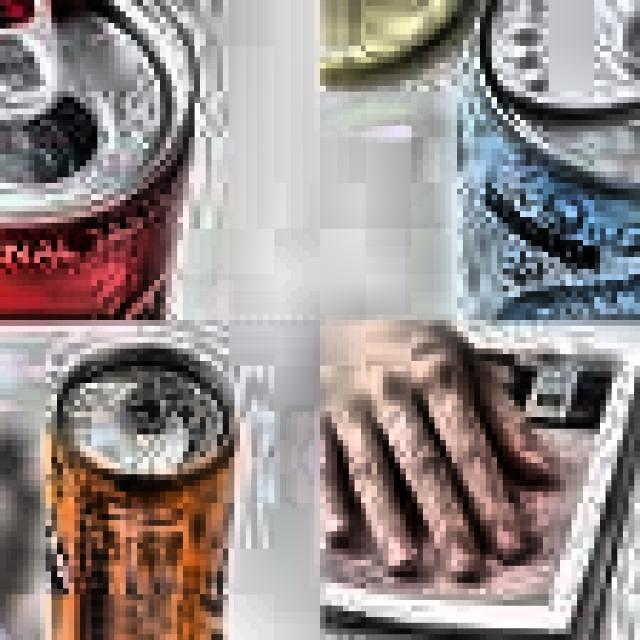metal: (0, 0, 211, 343), (440, 0, 640, 331), (34, 331, 246, 640)
